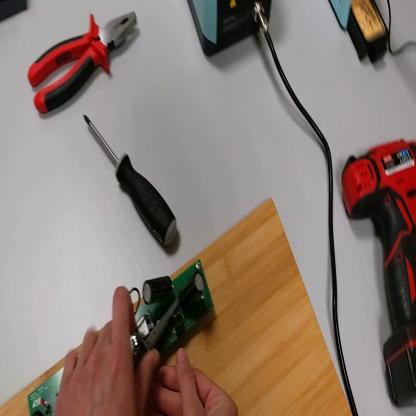electric screwdriver: (343, 135, 416, 414)
hand: (56, 286, 160, 415), (155, 348, 240, 414)
high voltage board: (27, 259, 216, 414)
oscilloscope probe tip: (138, 298, 182, 373)
pliers: (28, 9, 137, 121)
screwdriver-: (85, 113, 182, 251)
welder base: (328, 3, 392, 65)
welder station: (188, 3, 276, 61)
working area: (4, 195, 354, 415)
